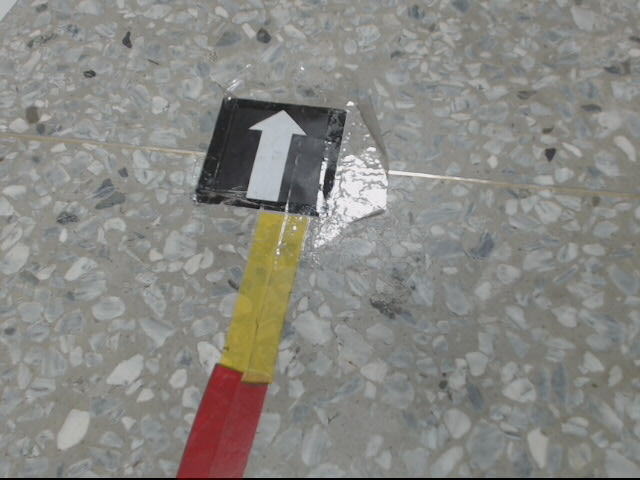straight: (196, 99, 350, 220)
